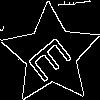E: (26, 29, 81, 84)
